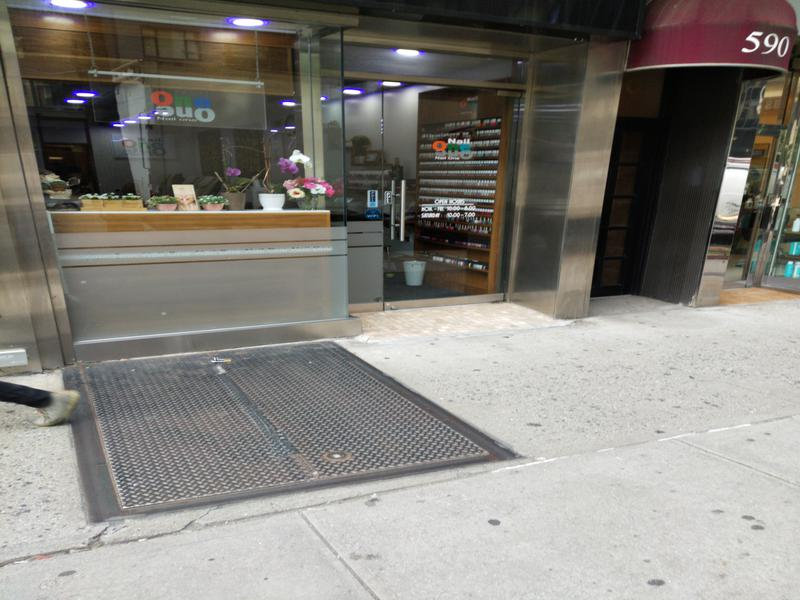door: (381, 71, 512, 309)
